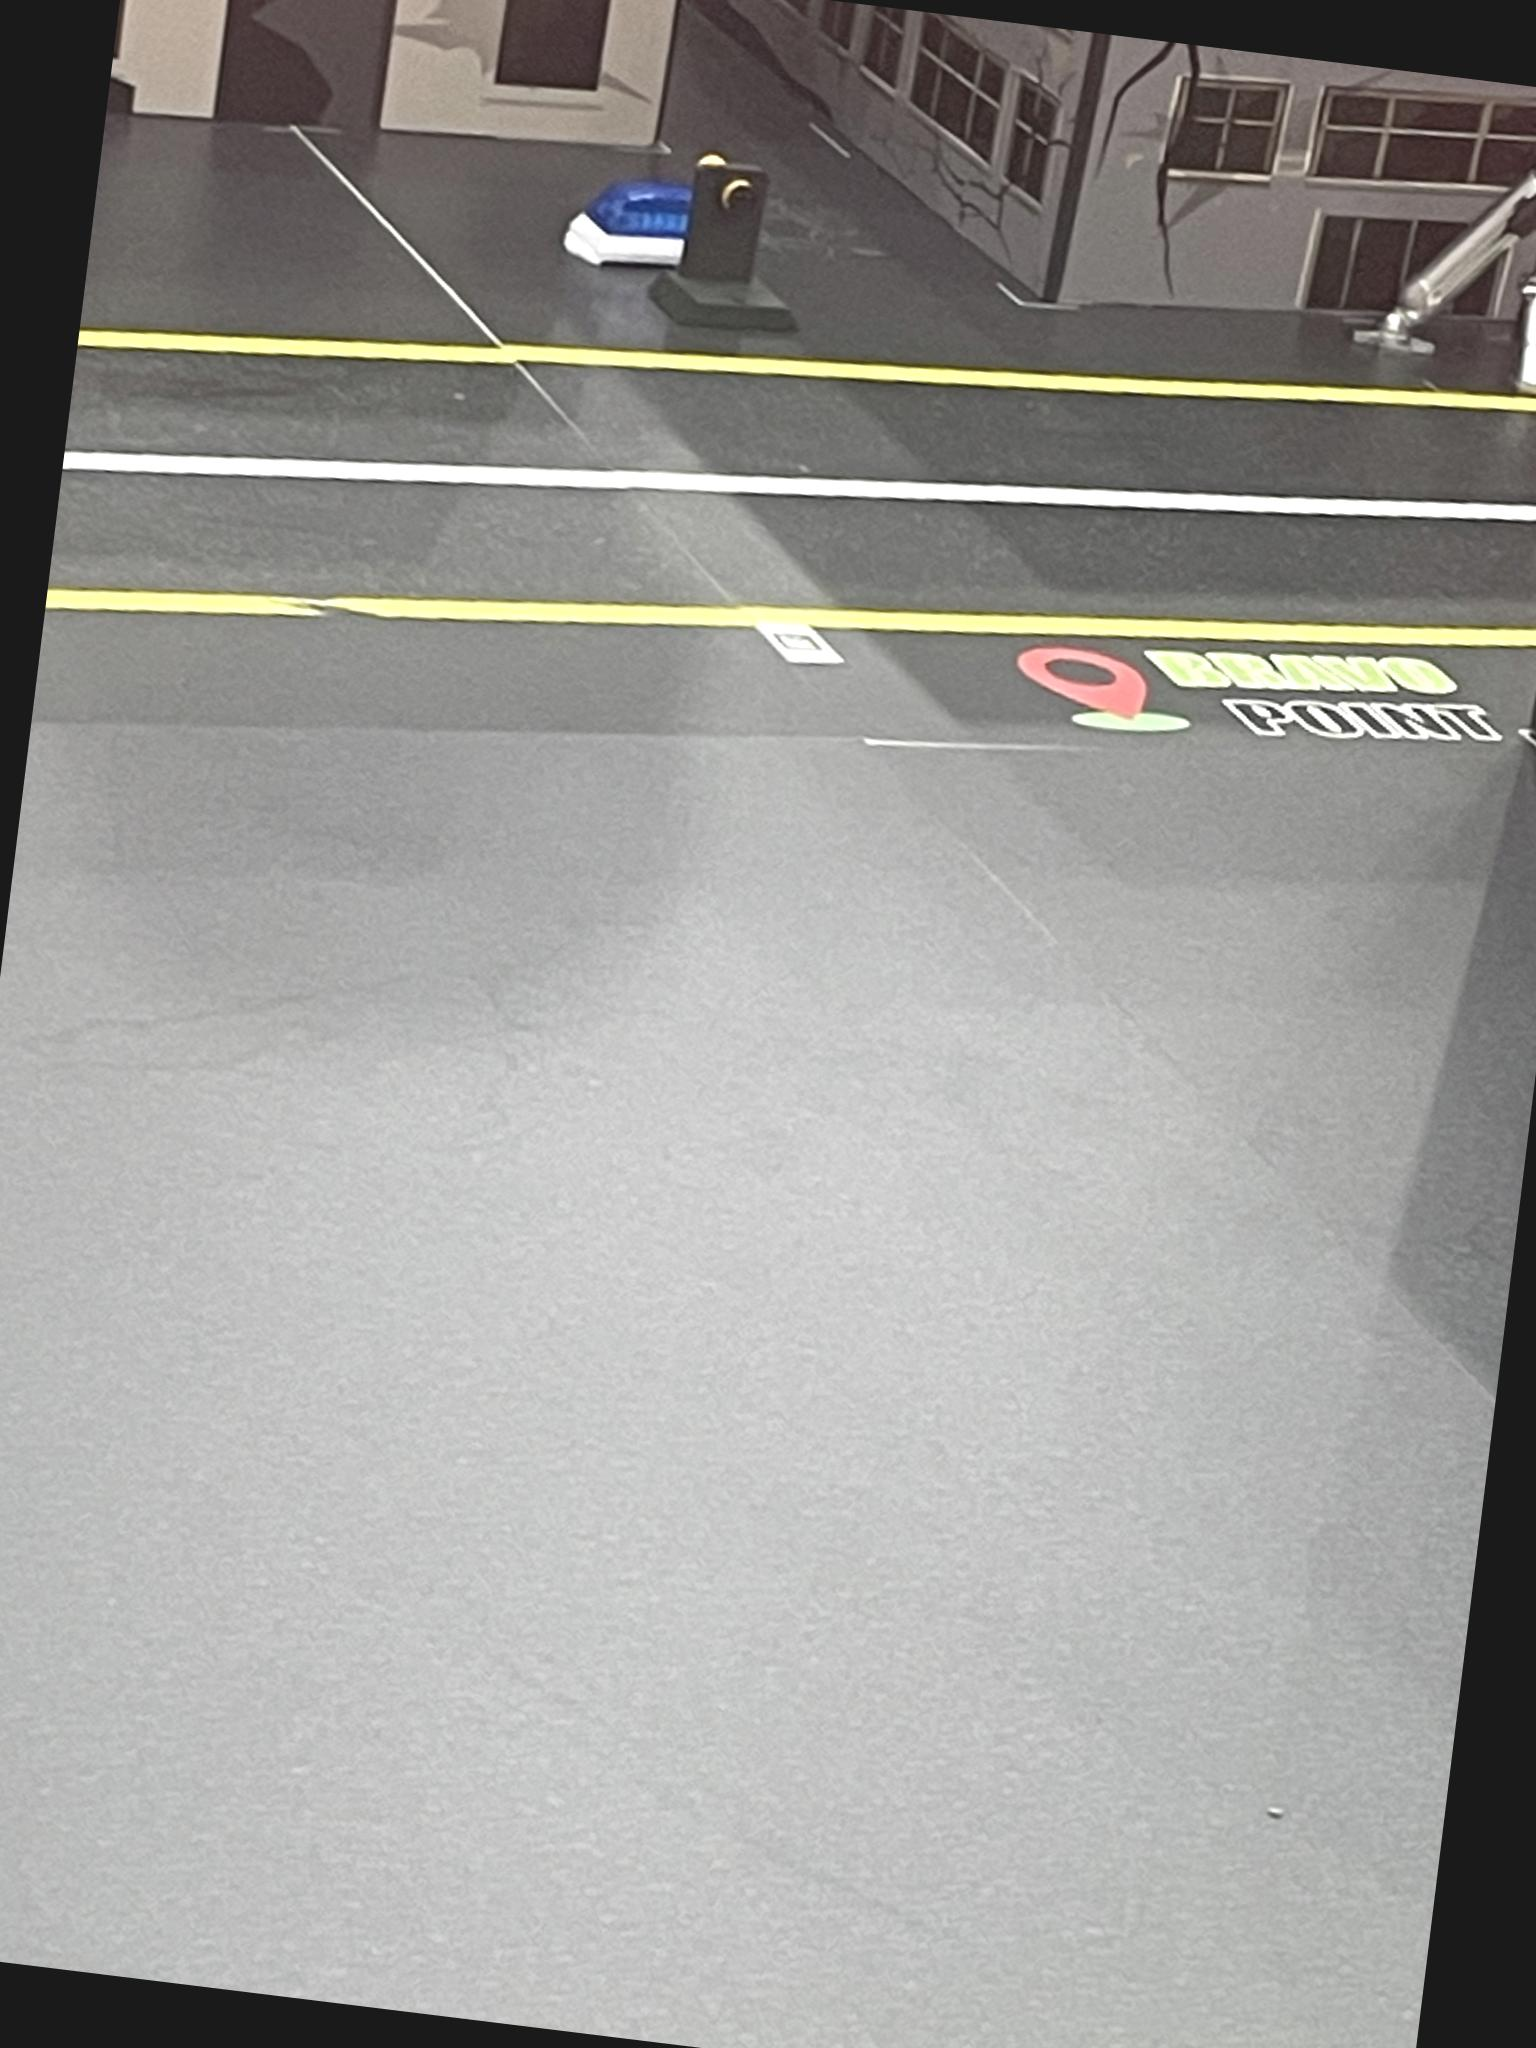Mortar: (1355, 111, 1536, 393)
